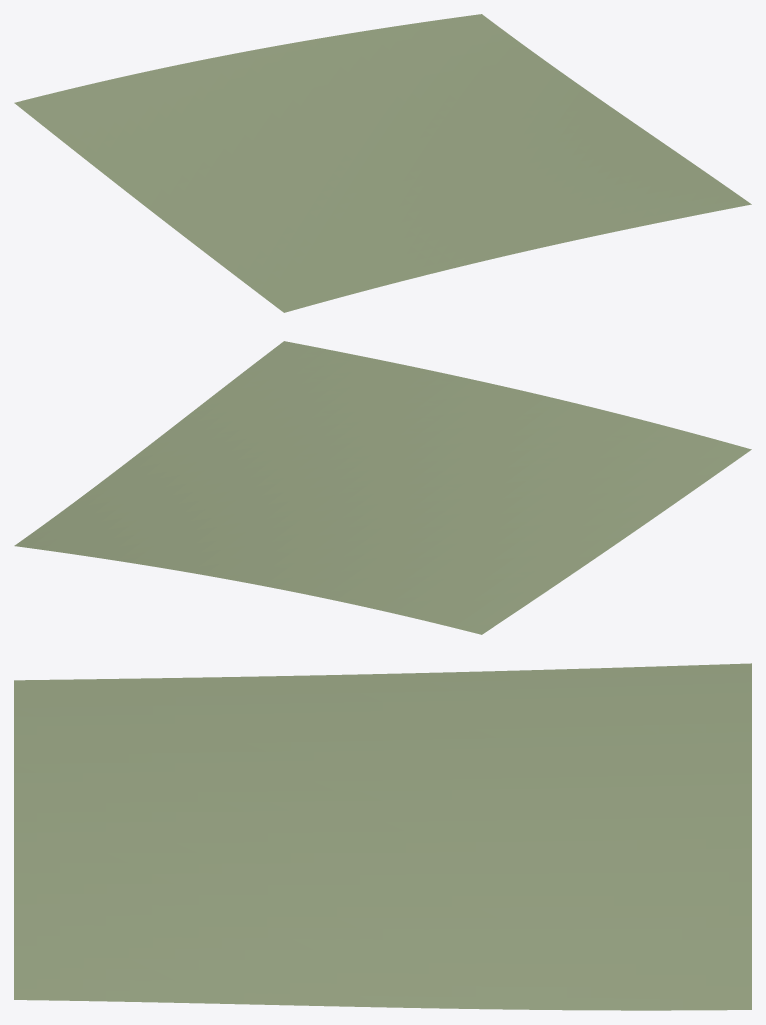
File: expanse-22-16.glb
3 views of the same model, one above another, from view 1: azimuth 30°, elevation 25°; view 2: azimuth 150°, elevation 25°; view 3: azimuth 270°, elevation 25° (orthographic). The views are drawn at different scales.
Visible parts, largest first — view 1: expanse-22-16; view 2: expanse-22-16; view 3: expanse-22-16.
Part boxes in pixels (<box>): expanse-22-16: <box>14,14,751,312</box>; expanse-22-16: <box>14,341,751,634</box>; expanse-22-16: <box>14,663,751,1010</box>.
Size of the model in its own units: 256 by 13.59 by 256.
